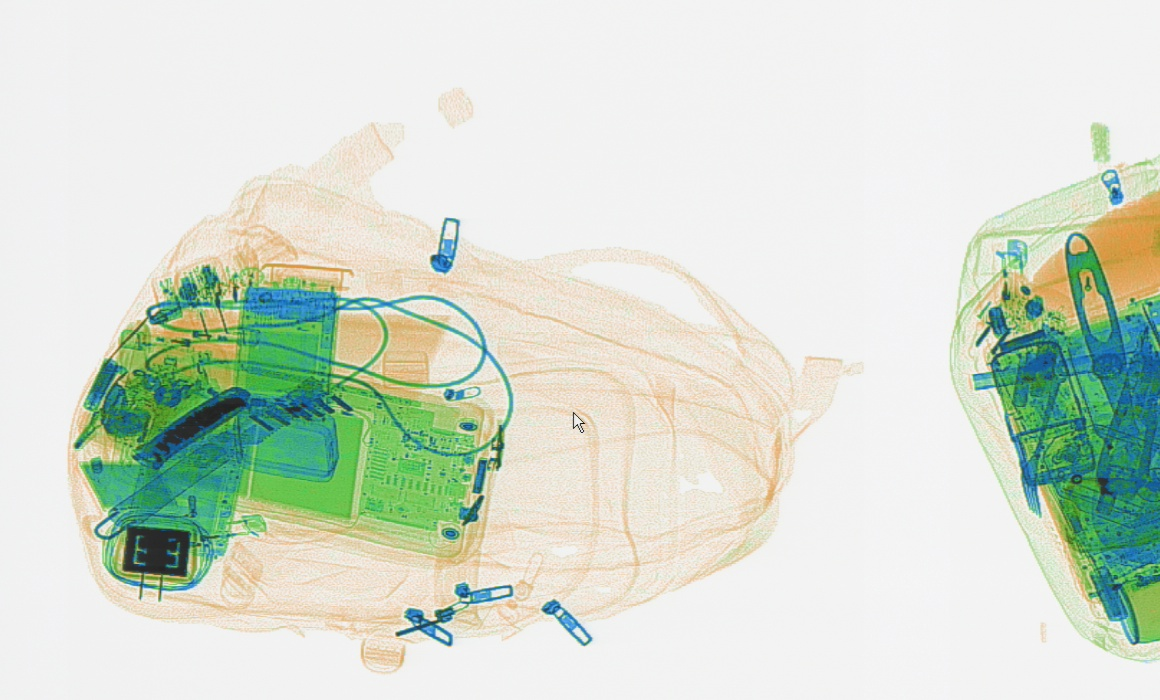lighter: (994, 238, 1026, 336), (119, 329, 212, 361)
